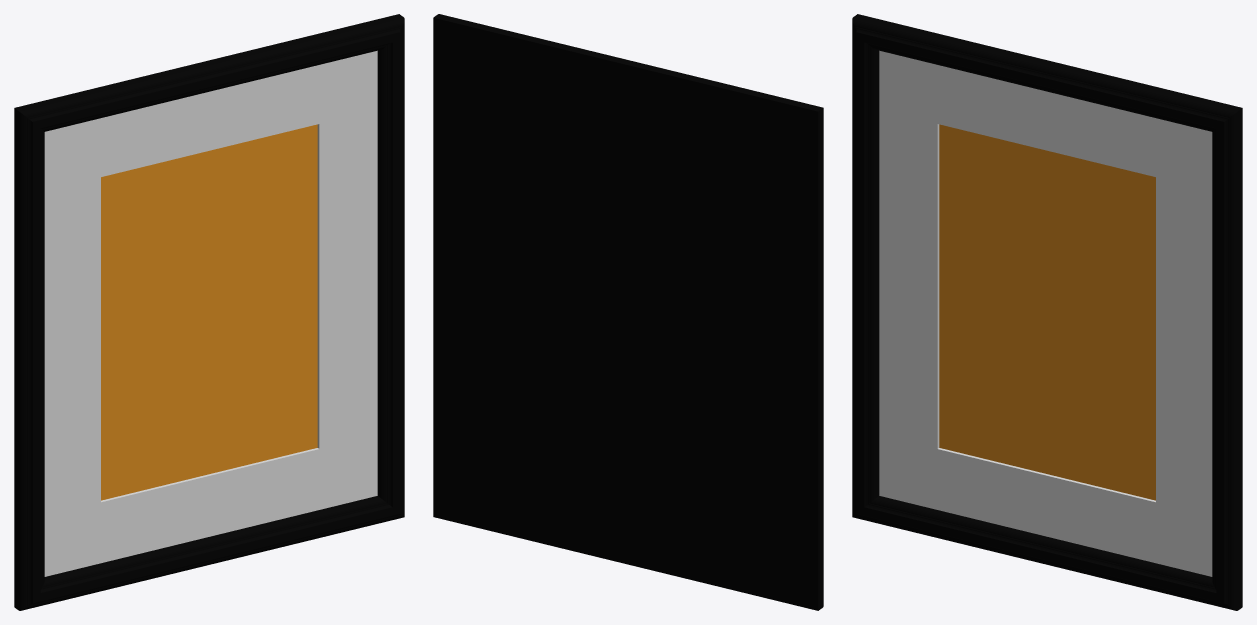
3 renders of one model, left to right at view 1: azimuth 30°, elevation 25°; view 2: azimuth 150°, elevation 25°; view 3: azimuth 330°, elevation 25°, orthographic.
Visible parts, largest first — view 1: Mesh, Picture; view 2: Mesh; view 3: Mesh, Picture.
Part boxes in pixels (box(x1,y1,x2,y2)): Mesh: box(14, 14, 404, 610); Picture: box(101, 124, 317, 500); Mesh: box(433, 14, 823, 610); Mesh: box(852, 14, 1242, 610); Picture: box(939, 124, 1155, 500).
Size of the model in its own units: 192 by 238 by 8.53.
